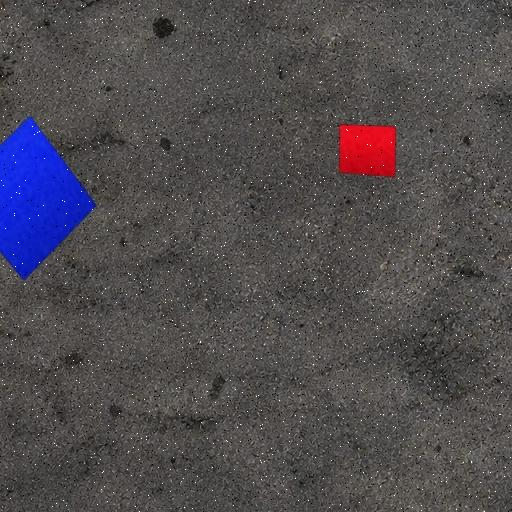BLUE_SQUARE: (0, 115, 98, 281)
RED_SQUARE: (338, 124, 397, 178)
